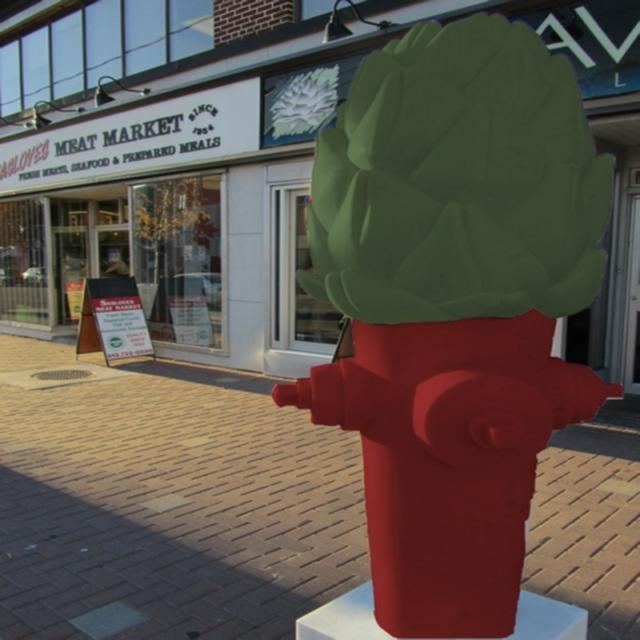fire_hydrant: (273, 11, 623, 639)
